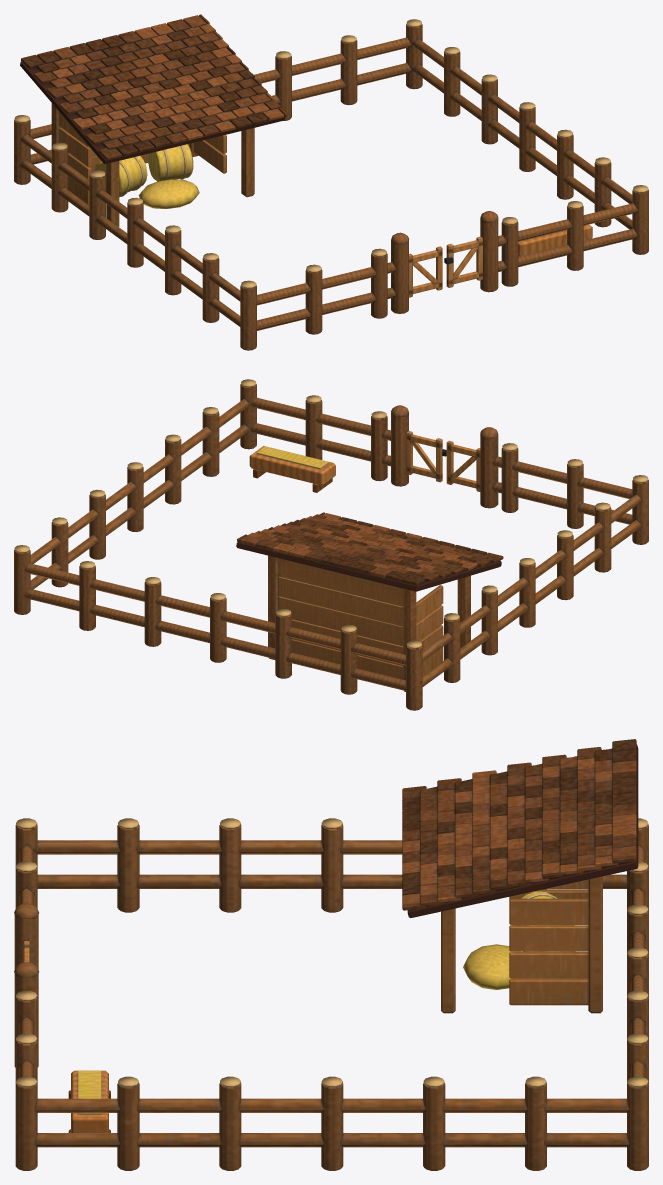
The model's file is shetland_fold.glb.
3 renders of one model, top to bottom at view 1: azimuth 30°, elevation 25°; view 2: azimuth 150°, elevation 25°; view 3: azimuth 270°, elevation 25°, orthographic. The views are drawn at different scales.
Visible parts, largest first — view 1: shetland_fold, gate1, gate0; view 2: shetland_fold, gate1, gate0; view 3: shetland_fold.
Part boxes in pixels (left/top/right/bottom): shetland_fold: left=14, top=14, right=648, bottom=350; gate1: left=444, top=236, right=482, bottom=287; gate0: left=409, top=246, right=442, bottom=297; shetland_fold: left=14, top=379, right=648, bottom=710; gate1: left=406, top=431, right=446, bottom=482; gate0: left=446, top=440, right=480, bottom=491; shetland_fold: left=14, top=739, right=648, bottom=1170.
Size of the model in its own units: 3 by 0.9345 by 3.01.
1 material, 1 textured.
